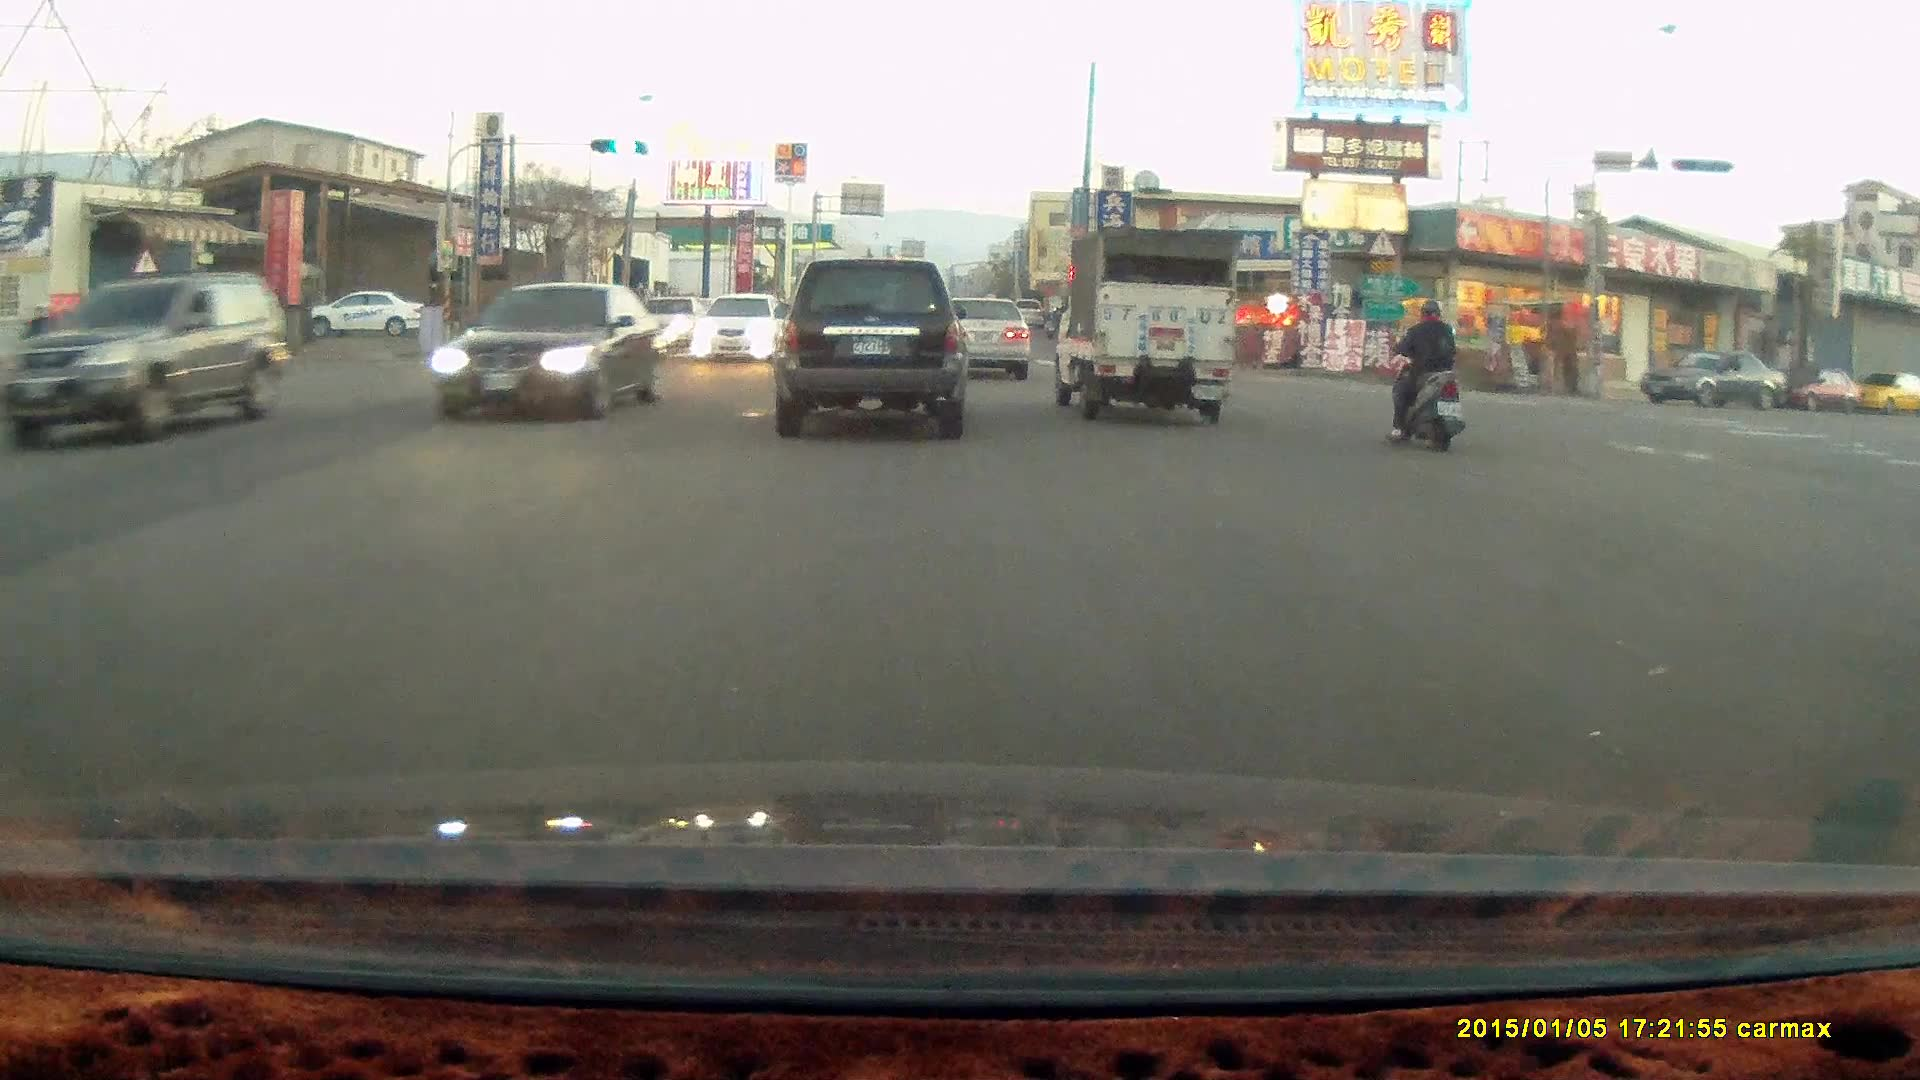rider: (1384, 295, 1467, 449)
vehicle: (7, 276, 284, 450), (1044, 224, 1235, 424), (771, 256, 969, 440), (424, 283, 669, 421), (458, 282, 580, 362), (925, 290, 1031, 379), (1638, 350, 1790, 411), (937, 297, 1034, 383), (690, 293, 788, 364), (311, 288, 430, 339), (1771, 366, 1864, 414), (1849, 373, 1920, 415)
